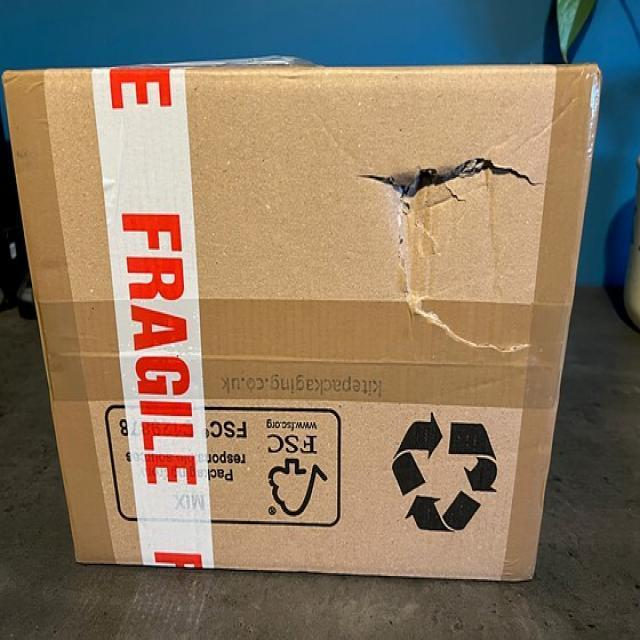damaged: (368, 158, 541, 251)
